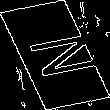N_E: (8, 28, 102, 82)
